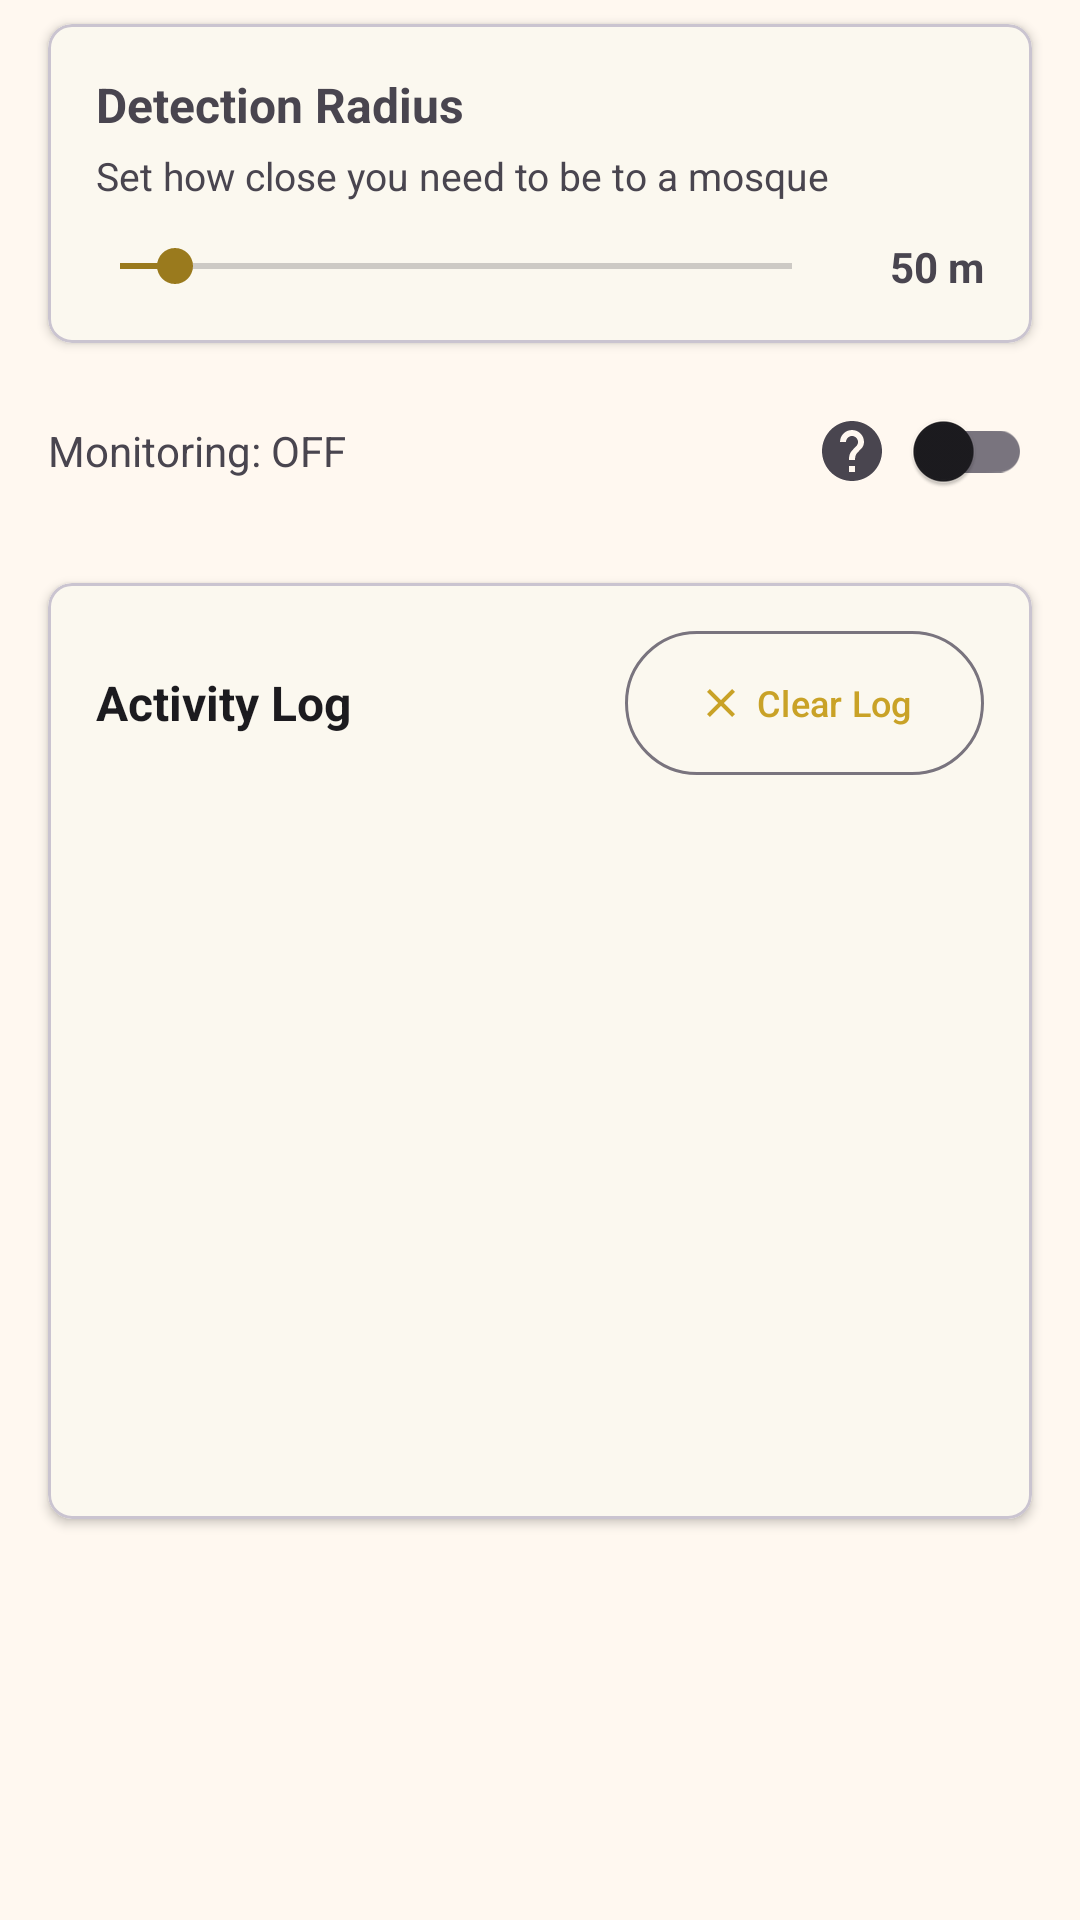

Icons on this 1080*1920 Android screen, each with its box as box=[x1, y1, x2, y2]:
Help about monitoring toggle: box=[822, 421, 882, 481]
